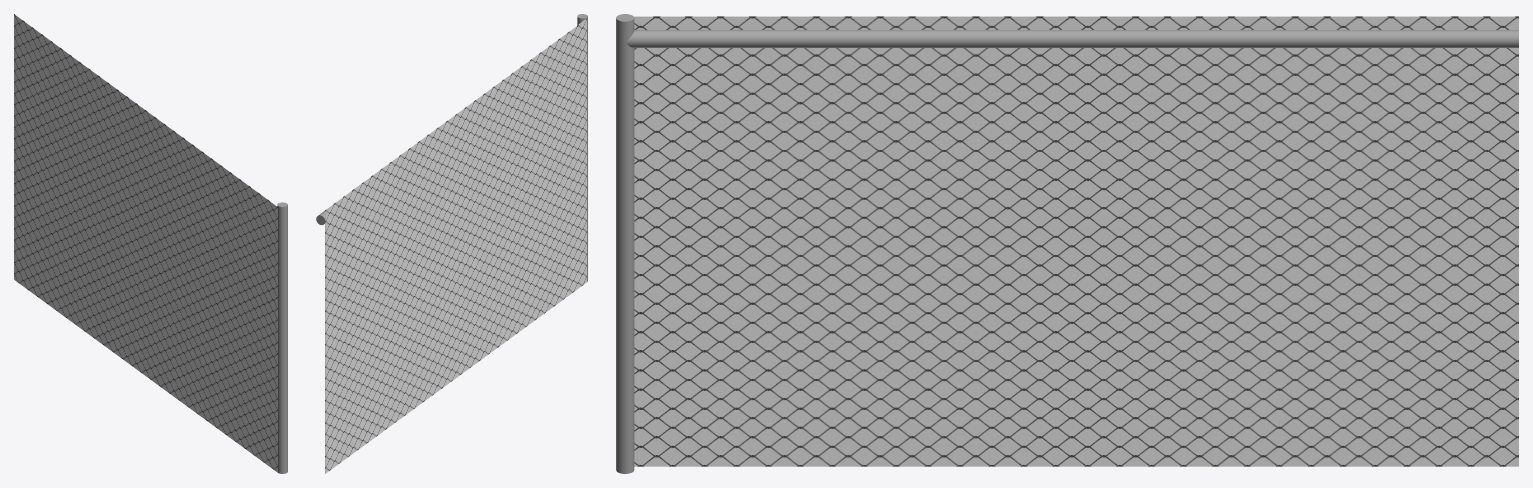
File: ChainlinkFence.fbx
3 renders of one model, left to right at view 1: azimuth 30°, elevation 25°; view 2: azimuth 150°, elevation 25°; view 3: azimuth 270°, elevation 25°, orthographic. The views are drawn at different scales.
Visible parts, largest first — view 1: Fence_Chainlink; view 2: Fence_Chainlink; view 3: Fence_Chainlink.
Boxes of the visible parts, x1,y1,x2,y2 form: Fence_Chainlink: [14, 14, 287, 473]; Fence_Chainlink: [316, 14, 587, 473]; Fence_Chainlink: [616, 14, 1518, 473].
Bounding box in the file's own units: 0.1827 × 5.03 × 9.09.
